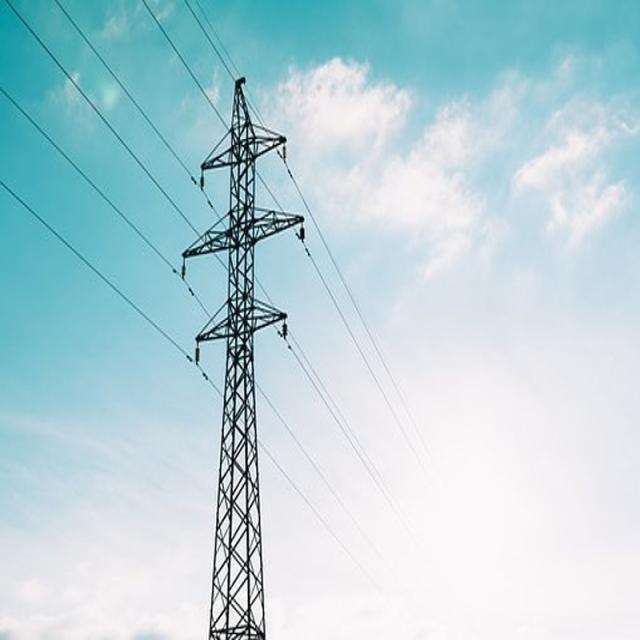non-critical vegetation: (172, 73, 314, 632)
